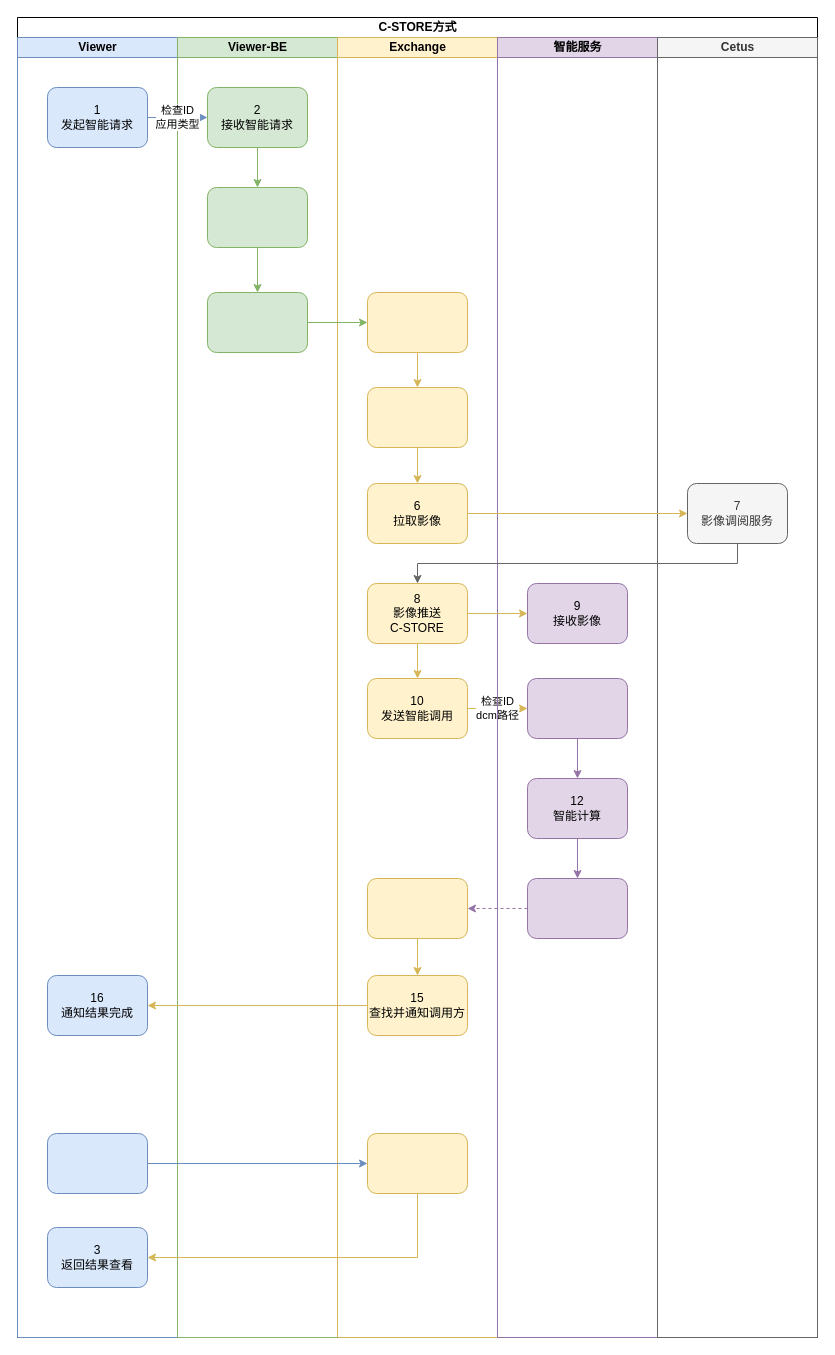
Some shapes in this 835 by 1355 pixel diagram are drawn without their labels. Here are the shapes that lost their labels. From the top down, the centre of each, then its label:
At (x=257, y=217): "3 查找智能应用 （从应用注册）".
At (x=257, y=322): "4 组装智能调用".
At (x=417, y=322): "5 接收智能调用".
At (x=417, y=417): "6 记录调用方 生成异步请求".
At (x=577, y=708): "11 接收智能调用".
At (x=417, y=908): "14 保存智能计算结果".
At (x=577, y=908): "13 返回智能计算结果".
At (x=97, y=1163): "1 请求结果查看".
At (x=417, y=1163): "2 结果调阅".
